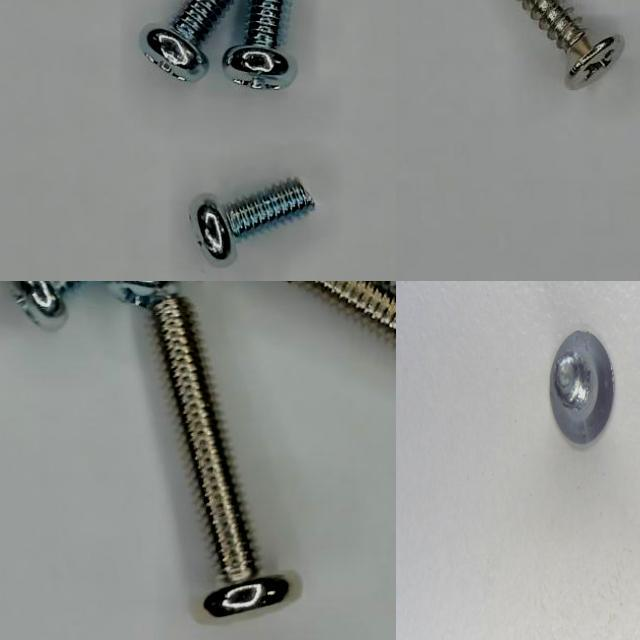Screw: (151, 293, 289, 617), (191, 179, 314, 262), (517, 0, 624, 90), (142, 0, 235, 80), (550, 330, 613, 443), (223, 0, 297, 89), (15, 281, 79, 330), (107, 281, 175, 305)
